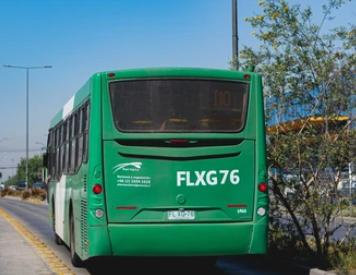vehicle: (42, 68, 269, 267)
